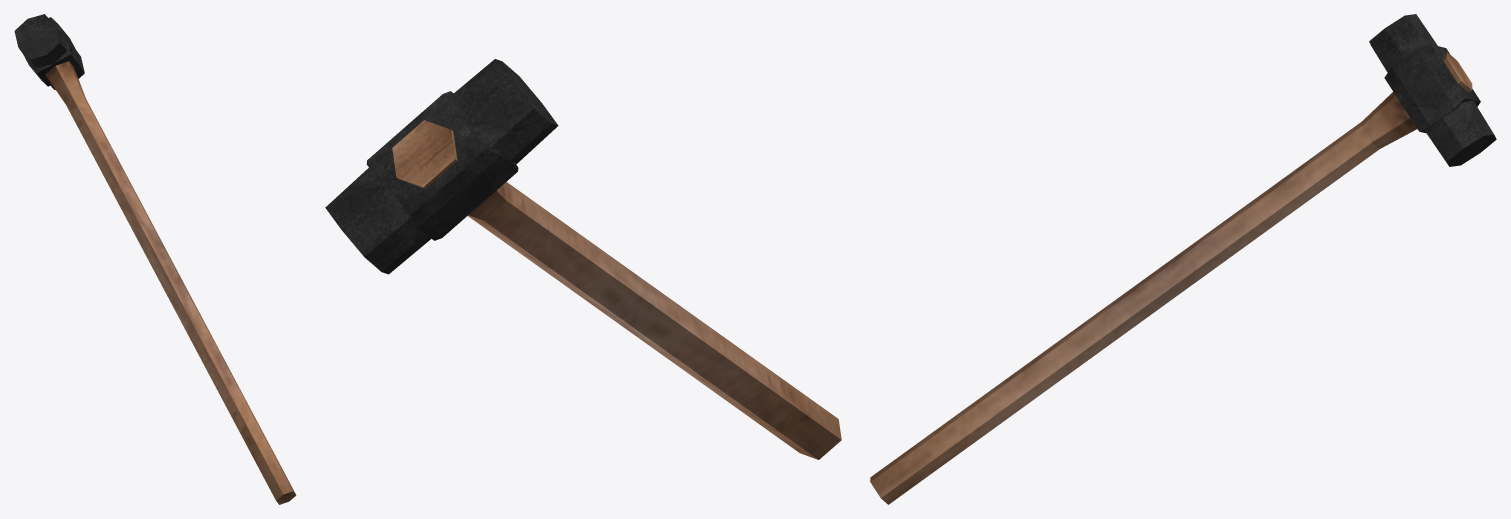
File: Sledgehammer.fbx
3 renders of one model, left to right at view 1: azimuth 30°, elevation 25°; view 2: azimuth 150°, elevation 25°; view 3: azimuth 270°, elevation 25°, orthographic. The views are drawn at different scales.
Parts seen in each view (by area): view 1: Cylinder, Cylinder.001, Cube; view 2: Cylinder, Cylinder.001, Cube; view 3: Cylinder, Cylinder.001, Cube.
Part boxes in pixels (x1,y1,x2,y2): Cylinder: (45, 61, 296, 504); Cylinder.001: (14, 14, 84, 89); Cube: (24, 17, 81, 86); Cylinder: (392, 120, 841, 459); Cylinder.001: (325, 59, 558, 274); Cube: (366, 91, 518, 240); Cylinder: (870, 52, 1472, 504); Cylinder.001: (1369, 14, 1496, 166); Cube: (1384, 44, 1480, 133).
Size of the model in its own units: 475 by 1871 by 2302.
